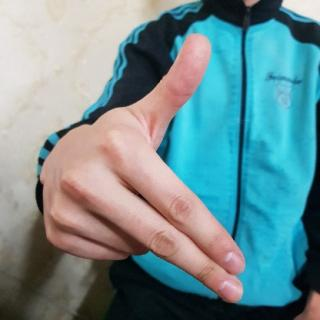GHAYN: (34, 25, 274, 308)
